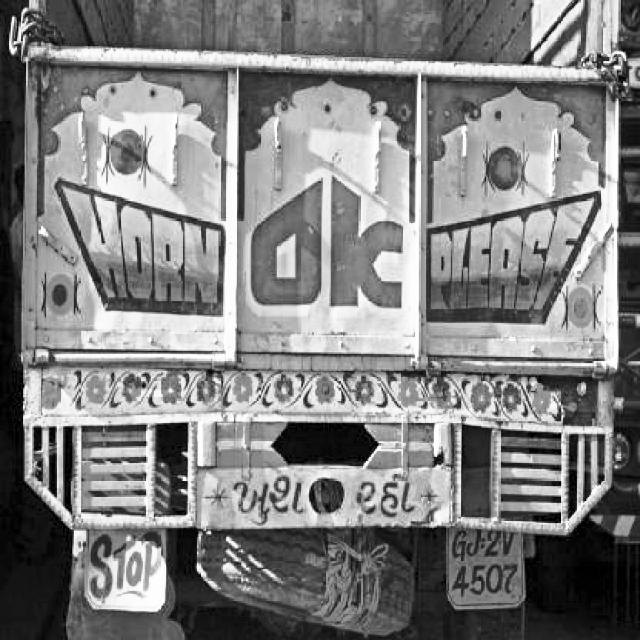HCV: (20, 40, 626, 614)
